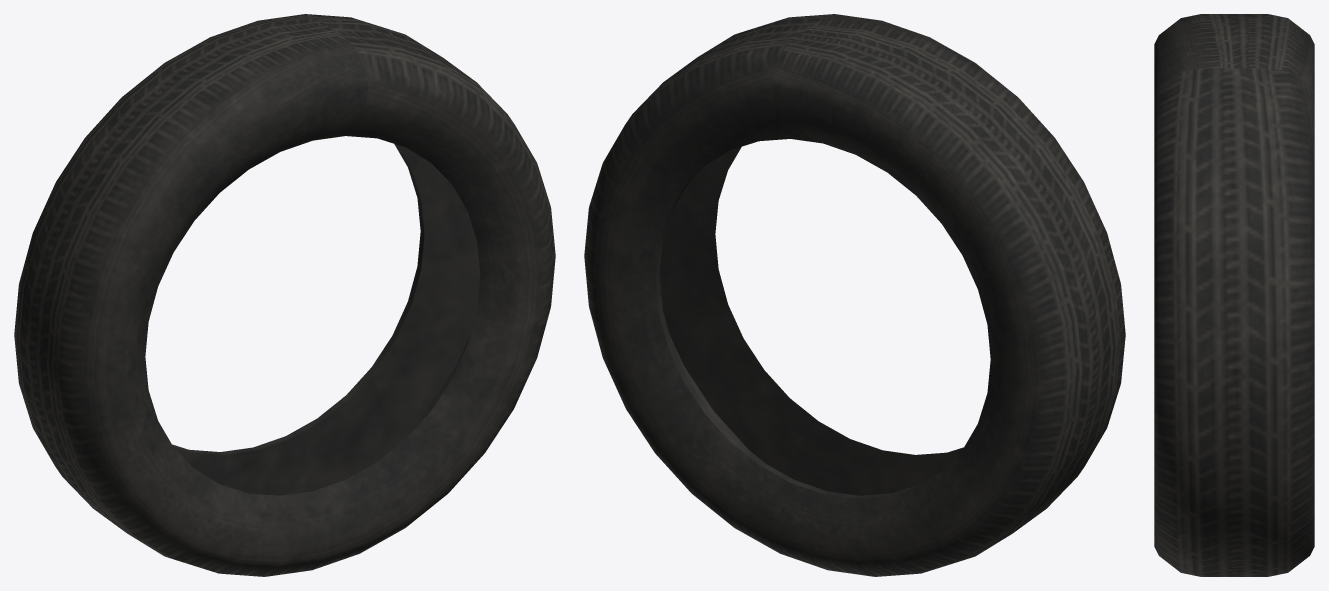
File: Tire.fbx
The picture shows the model from 3 angles, left to right: view 1: azimuth 30°, elevation 25°; view 2: azimuth 150°, elevation 25°; view 3: azimuth 270°, elevation 25°; orthographic projection.
Visible parts, largest first — view 1: Tire; view 2: Tire; view 3: Tire.
Part boxes in pixels (bbox=[...]): Tire: bbox=[14, 14, 555, 576]; Tire: bbox=[584, 14, 1125, 576]; Tire: bbox=[1154, 14, 1314, 576].
Size of the model in its own units: 63.47 by 63.47 by 18.05.
